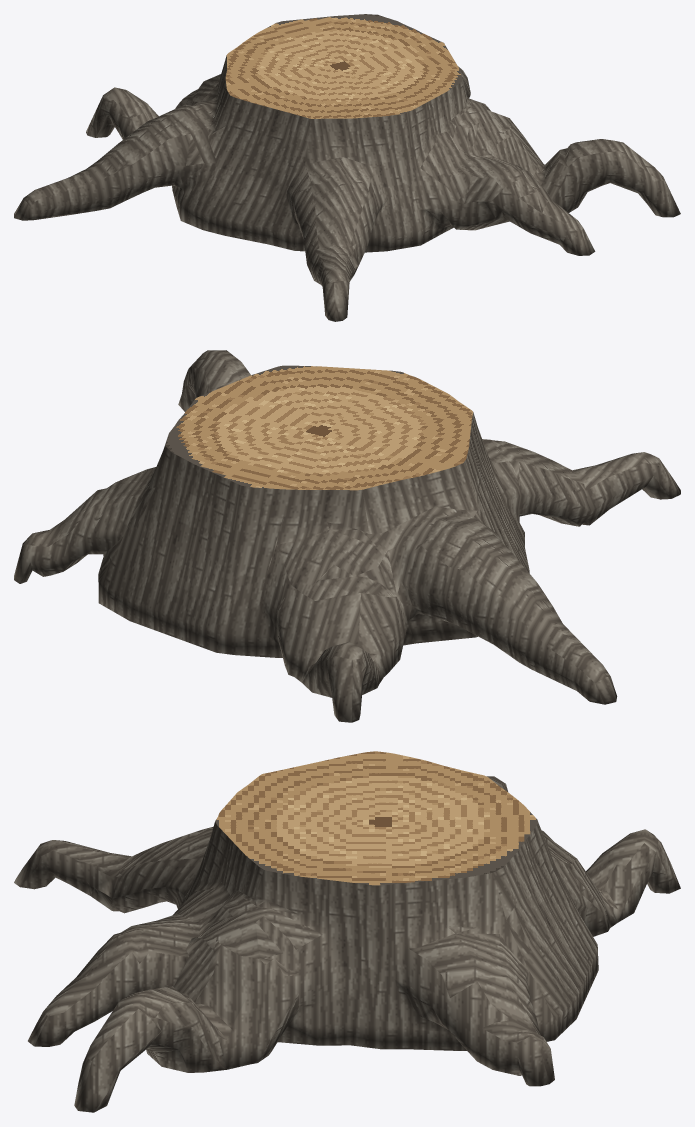
File: environment_elm5_stump_v59.fbx
3 views of the same model, one above another, from view 1: azimuth 30°, elevation 25°; view 2: azimuth 150°, elevation 25°; view 3: azimuth 270°, elevation 25° (orthographic). The views are drawn at different scales.
Parts seen in each view (by area): view 1: environment_elm5_stump_v59; view 2: environment_elm5_stump_v59; view 3: environment_elm5_stump_v59.
Part boxes in pixels (<box>): environment_elm5_stump_v59: <box>14,14,680,321</box>; environment_elm5_stump_v59: <box>14,350,680,722</box>; environment_elm5_stump_v59: <box>14,751,680,1112</box>.
Size of the model in its own units: 527 by 115 by 466.
Materials: 2 (2 with a texture image).
